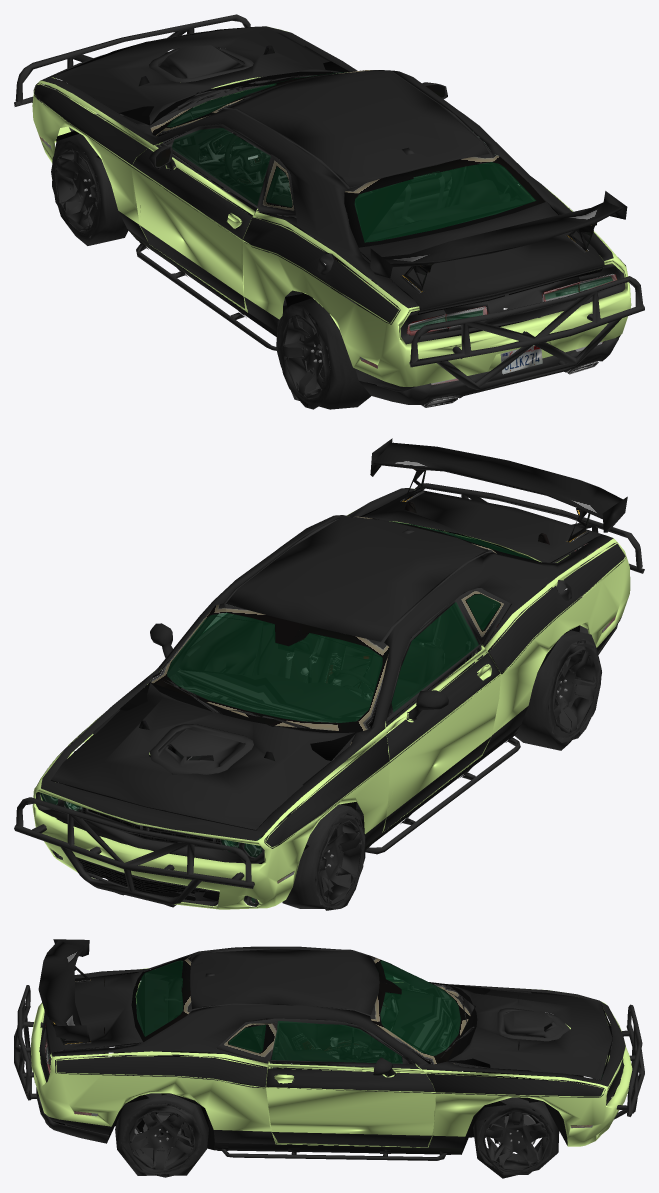
File: challenger_lo.glb
3 renders of one model, top to bottom at view 1: azimuth 30°, elevation 25°; view 2: azimuth 150°, elevation 25°; view 3: azimuth 270°, elevation 25°, orthographic. The views are drawn at different scales.
Parts seen in each view (by area): view 1: body, wheel_RL, wheel_FL; view 2: body, wheel_RL, wheel_FL; view 3: body, wheel_RR, wheel_FR.
Part boxes in pixels (x1=…): body: x1=14, y1=14, x2=644, y2=409; wheel_RL: x1=277, y1=305, x2=330, y2=409; wheel_FL: x1=52, y1=140, x2=101, y2=239; body: x1=14, y1=438, x2=644, y2=909; wheel_RL: x1=548, y1=638, x2=601, y2=742; wheel_FL: x1=316, y1=814, x2=365, y2=910; body: x1=14, y1=939, x2=644, y2=1178; wheel_RR: x1=121, y1=1103, x2=202, y2=1177; wheel_FR: x1=478, y1=1106, x2=554, y2=1174.
Bounding box in the file's own units: 2.07 × 1.41 × 5.02.
20 materials, 11 textured.
